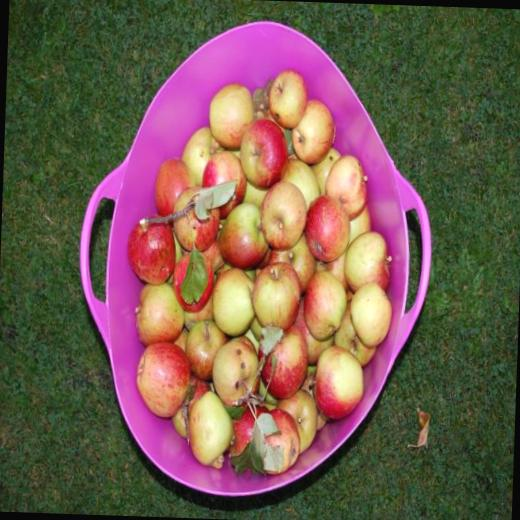Apple: (119, 63, 400, 478)
